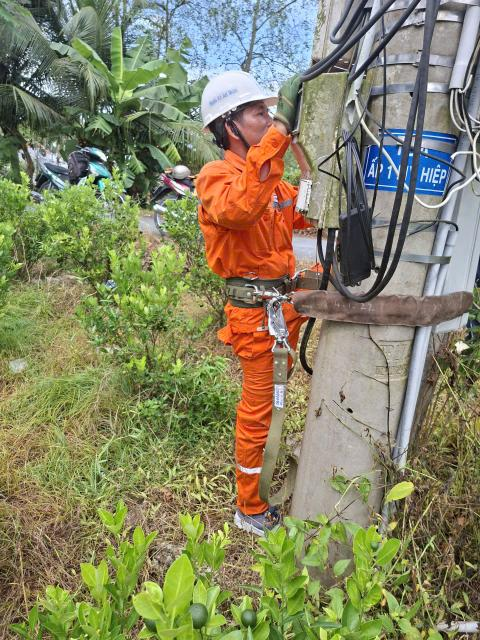gloves: (263, 65, 316, 145)
harness: (218, 265, 332, 315)
helmet: (186, 64, 278, 122)
shoes: (229, 497, 297, 546)
